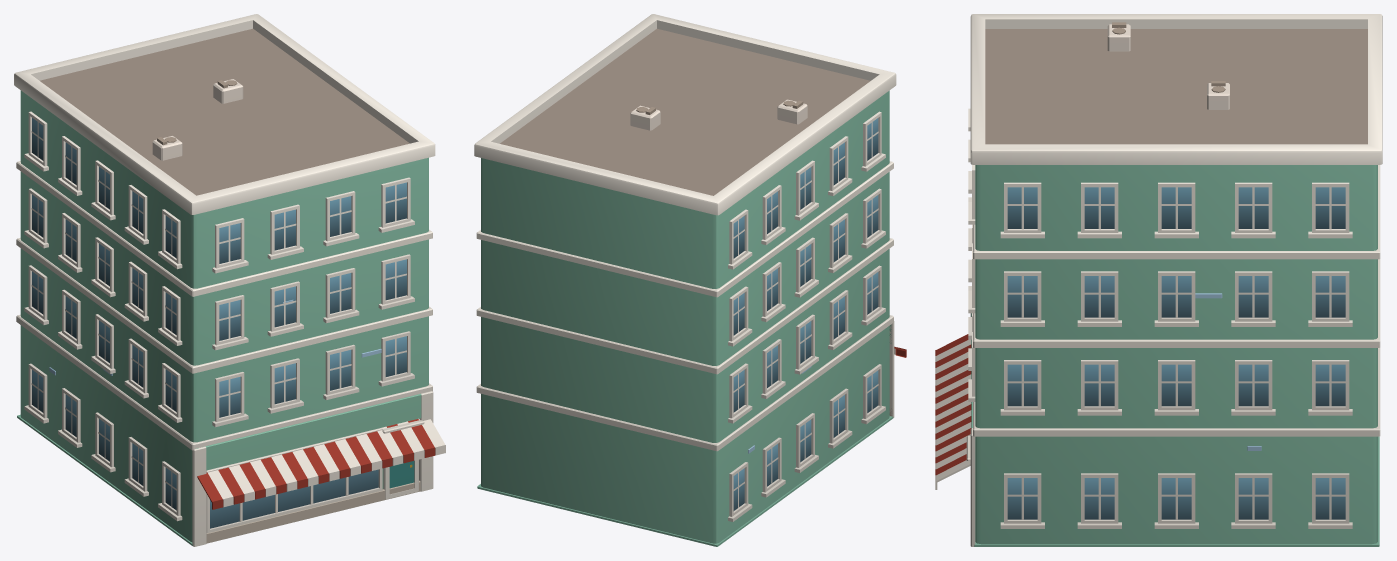
File: boylston_s14.glb
3 renders of one model, left to right at view 1: azimuth 30°, elevation 25°; view 2: azimuth 150°, elevation 25°; view 3: azimuth 270°, elevation 25°, orthographic. The views are drawn at different scales.
Parts seen in each view (by area): view 1: boylston_s14; view 2: boylston_s14; view 3: boylston_s14.
Part boxes in pixels (box(x1,y1,x2,y2)): boylston_s14: box(14, 14, 445, 546); boylston_s14: box(474, 14, 906, 546); boylston_s14: box(935, 14, 1382, 546).
Size of the model in its own units: 11.48 by 15.59 by 15.55.
Materials: 1 (1 with a texture image).
